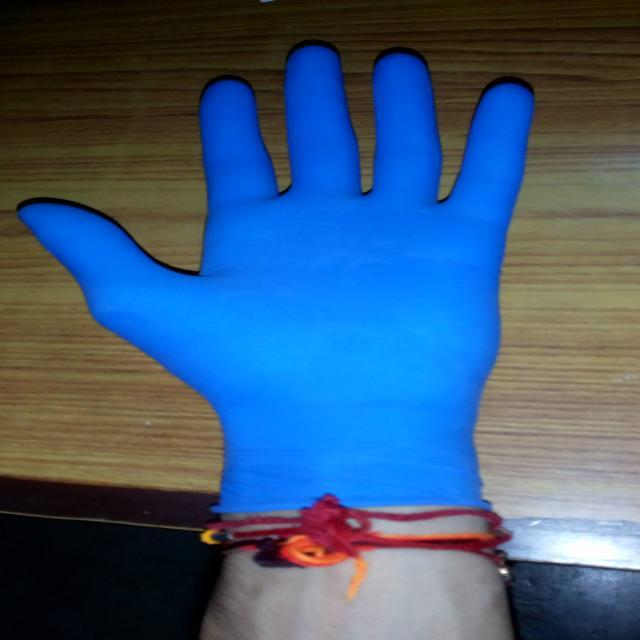glove_hand: (8, 36, 546, 525)
